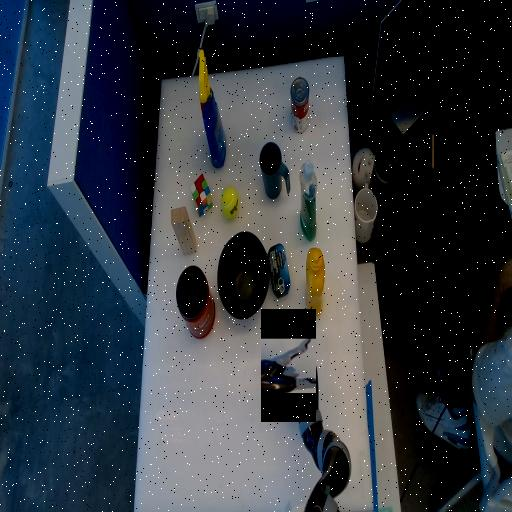bowl: (218, 233, 268, 318)
cleanser: (300, 162, 316, 241)
coffee_can: (175, 283, 214, 322)
jaco: (261, 338, 316, 394)
meat_can: (267, 261, 289, 282)
mug: (258, 156, 289, 186)
mustard_bottle: (305, 249, 324, 317)
rubik: (190, 174, 212, 217)
soup_can: (290, 78, 308, 133)
tennis_ball: (221, 195, 238, 212)
windex: (198, 49, 225, 167)
wooden_block: (170, 219, 195, 244)
workspace: (135, 57, 372, 509)
